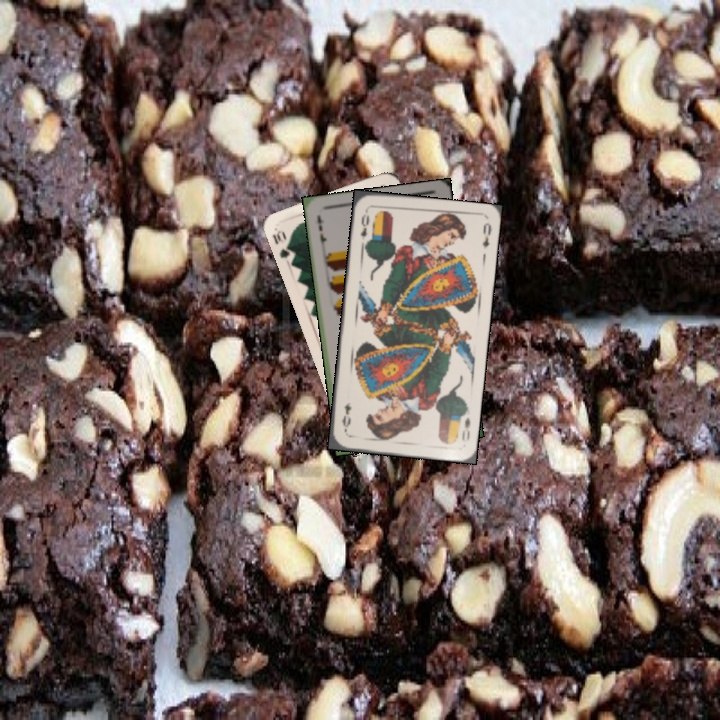E7: (313, 211, 328, 251)
EO: (356, 206, 372, 242), (458, 413, 473, 443)
G10: (268, 226, 297, 263)
